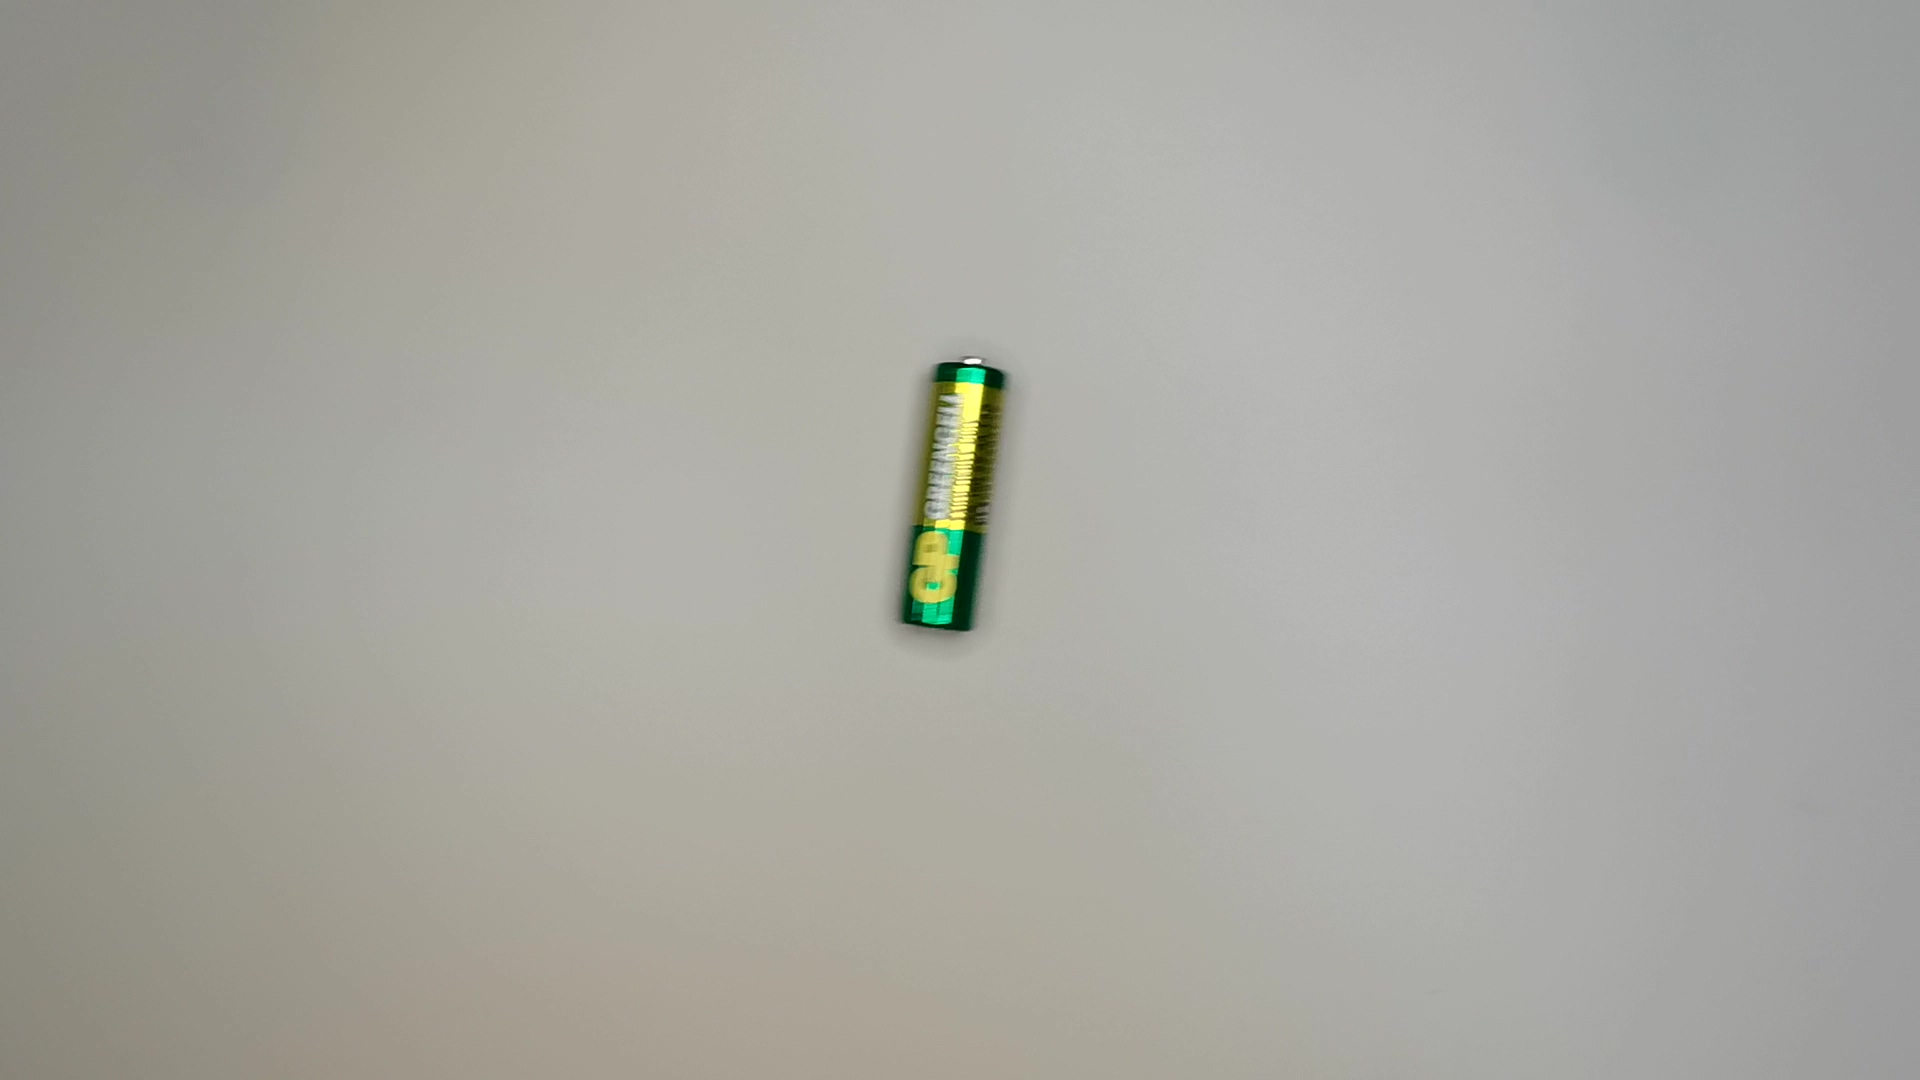battery: (895, 352, 1014, 644)
